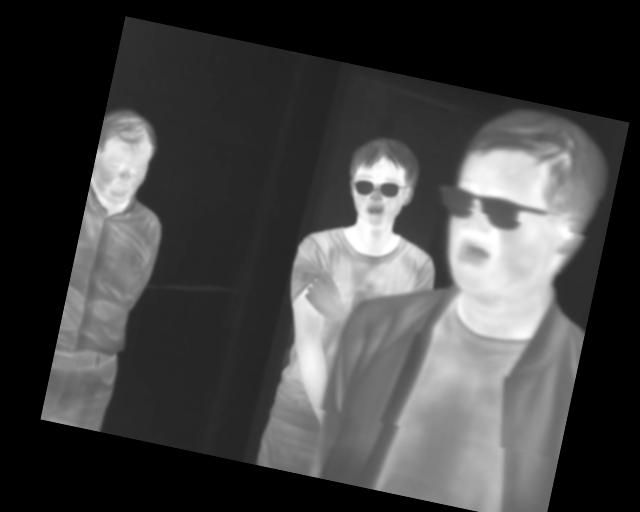face: (433, 94, 615, 317), (337, 129, 424, 234), (87, 103, 164, 211)
